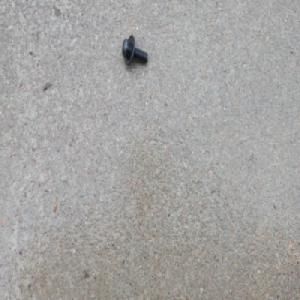BoltWasher: (121, 34, 148, 67)
